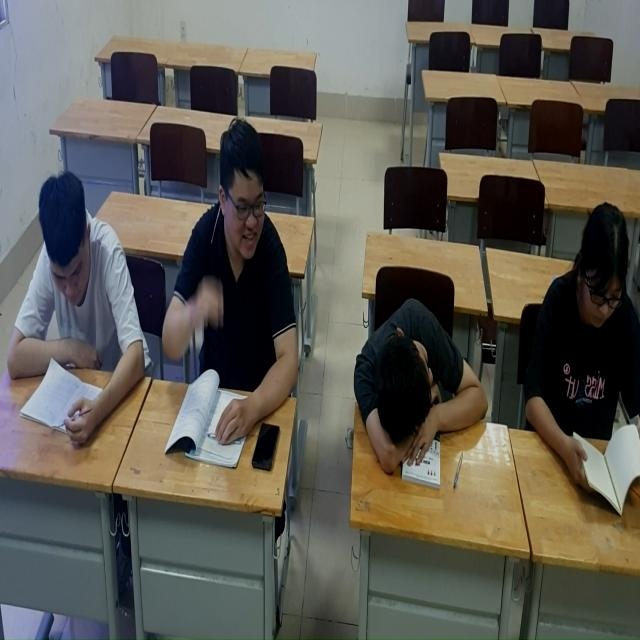read: (7, 156, 156, 438), (514, 204, 640, 502)
sleep: (344, 268, 494, 498)
